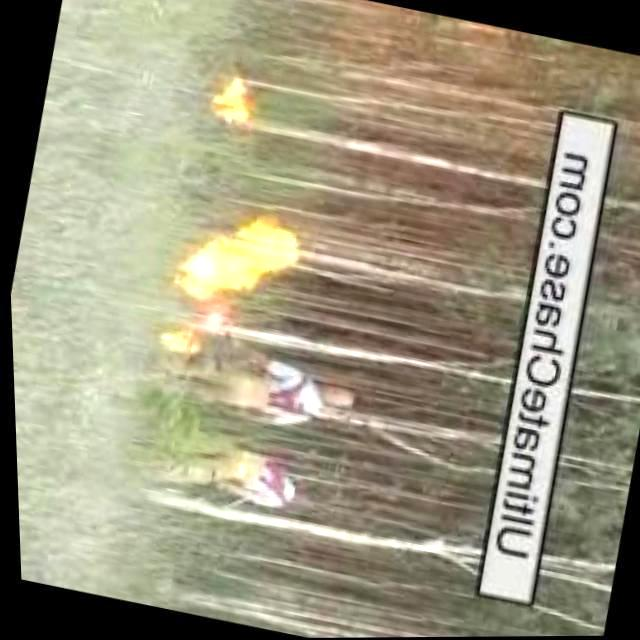fire: (169, 200, 305, 320), (146, 298, 222, 368), (200, 74, 256, 128)
